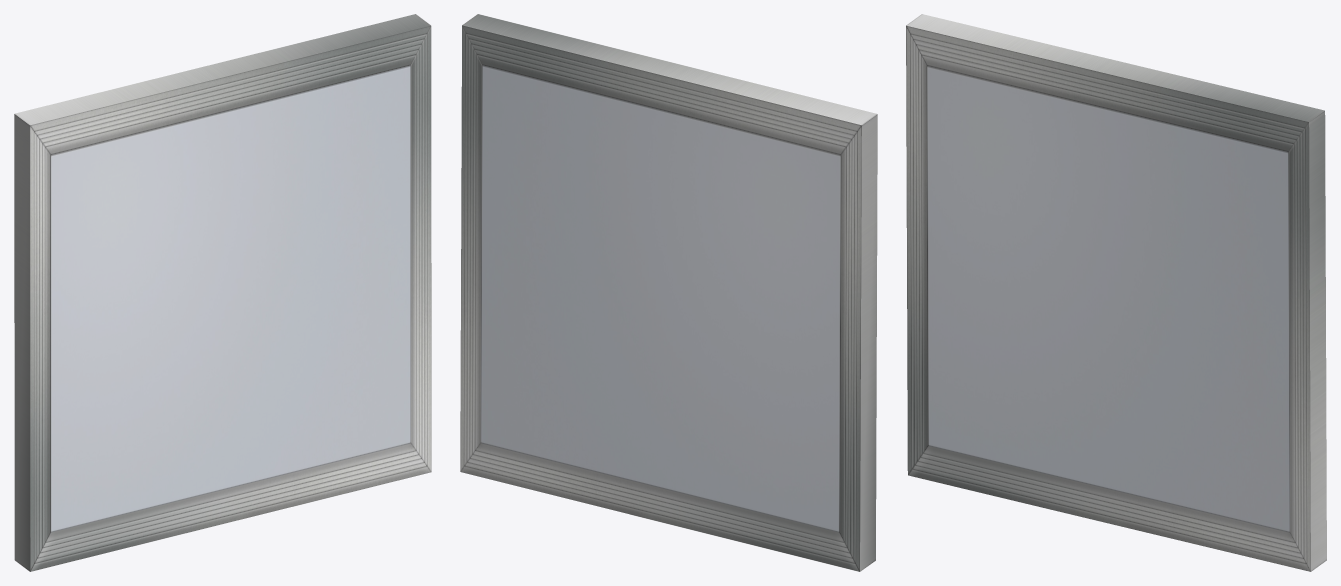
The model's file is PicFrame_gltf.gltf.
3 renders of one model, left to right at view 1: azimuth 30°, elevation 25°; view 2: azimuth 150°, elevation 25°; view 3: azimuth 330°, elevation 25°, orthographic.
Parts seen in each view (by area): view 1: 額縁_単体; view 2: 額縁_単体; view 3: 額縁_単体.
Boxes of the visible parts, left/top/right/bottom form: 額縁_単体: left=14, top=14, right=431, bottom=571; 額縁_単体: left=460, top=14, right=877, bottom=571; 額縁_単体: left=906, top=14, right=1326, bottom=571.
Bounding box in the file's own units: 1.66 × 1.78 × 0.1204.
1 material, 1 textured.
